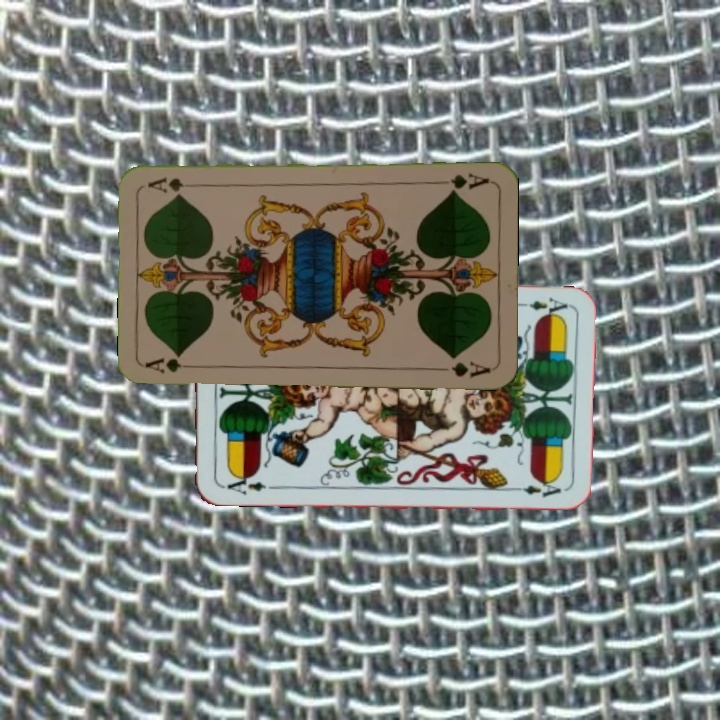EA: (217, 470, 276, 498), (512, 292, 570, 320)
GA: (433, 169, 492, 196), (142, 354, 201, 375)
